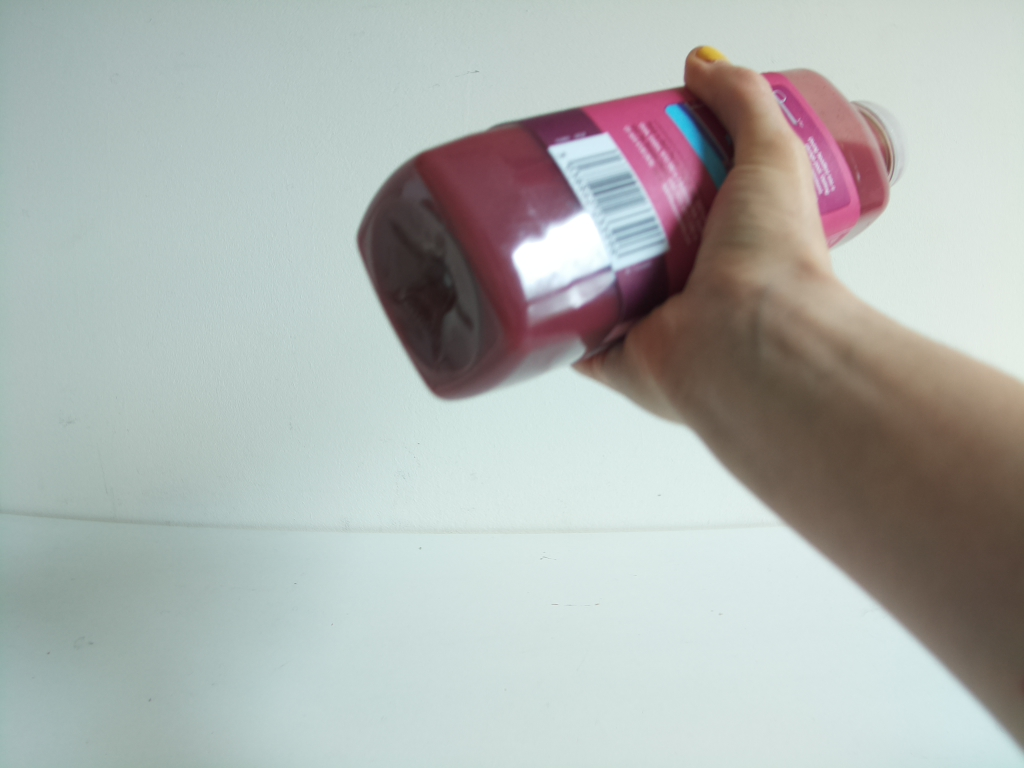juice: (354, 66, 915, 403)
